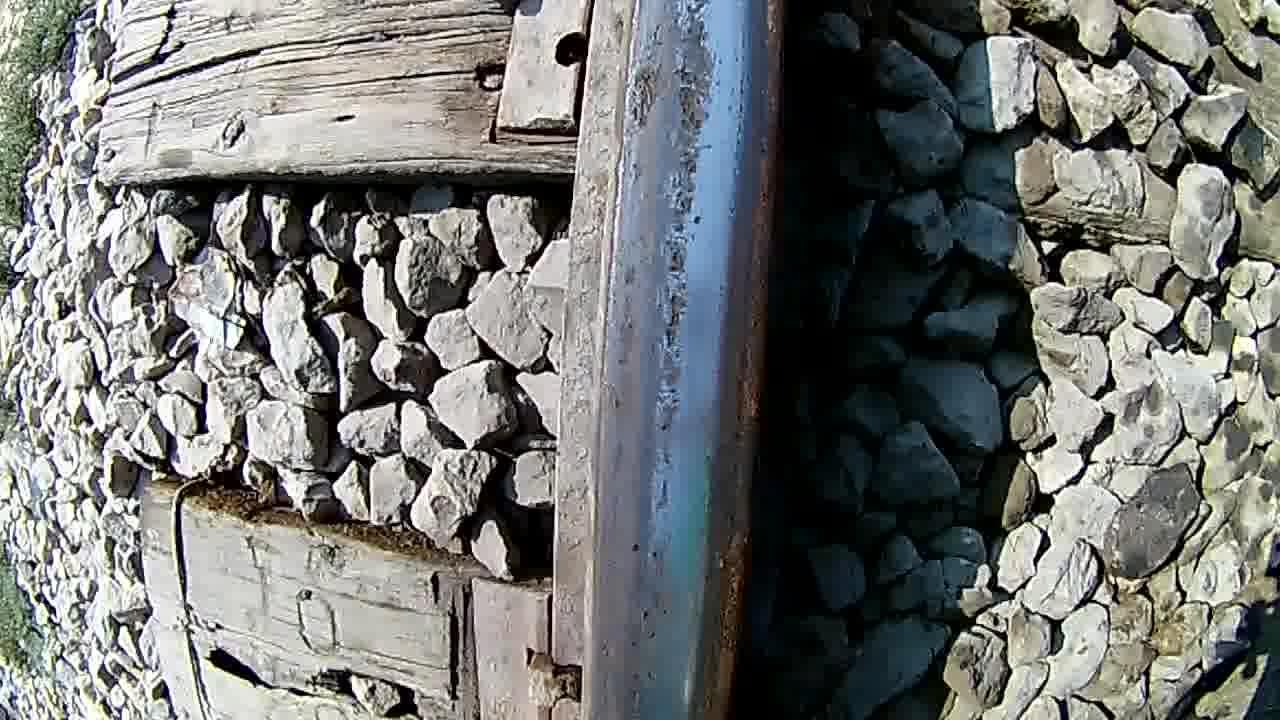crack: (598, 0, 762, 720)
